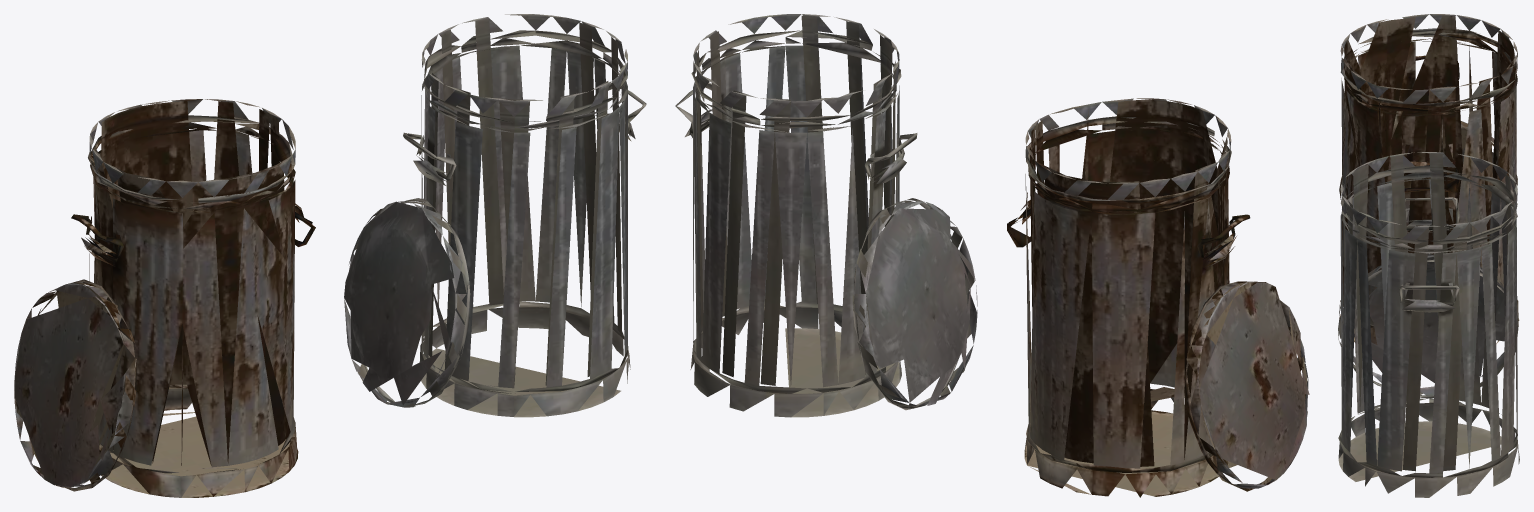
The model's file is metal_trash_can.gltf.
3 views of the same model, side by side, from view 1: azimuth 30°, elevation 25°; view 2: azimuth 150°, elevation 25°; view 3: azimuth 270°, elevation 25° (orthographic). The views are drawn at different scales.
Parts seen in each view (by area): view 1: metal_trash_can_rust, metal_trash_can, metal_trash_can_rust_lid, metal_trash_can_lid; view 2: metal_trash_can_rust, metal_trash_can, metal_trash_can_rust_lid, metal_trash_can_lid; view 3: metal_trash_can, metal_trash_can_rust, metal_trash_can_lid, metal_trash_can_handle_right, metal_trash_can_rust_lid, metal_trash_can_rust_handle_right, metal_trash_can_handle_left.
Boxes of the visible parts, <box> form: metal_trash_can_rust: <box>81,99,303,497</box>; metal_trash_can: <box>413,14,635,417</box>; metal_trash_can_rust_lid: <box>14,279,136,491</box>; metal_trash_can_lid: <box>344,198,470,407</box>; metal_trash_can_rust: <box>1017,98,1236,497</box>; metal_trash_can: <box>685,14,906,417</box>; metal_trash_can_rust_lid: <box>1184,281,1309,491</box>; metal_trash_can_lid: <box>852,198,977,410</box>; metal_trash_can: <box>1338,152,1519,497</box>; metal_trash_can_rust: <box>1339,14,1519,344</box>; metal_trash_can_lid: <box>1338,254,1518,398</box>; metal_trash_can_handle_right: <box>1399,284,1459,305</box>; metal_trash_can_rust_lid: <box>1339,121,1517,205</box>; metal_trash_can_rust_handle_right: <box>1404,162,1459,192</box>; metal_trash_can_handle_left: <box>1405,197,1459,230</box>.
Size of the model in its own units: 1.77 by 0.9062 by 0.5528.
3 materials, 3 textured.
